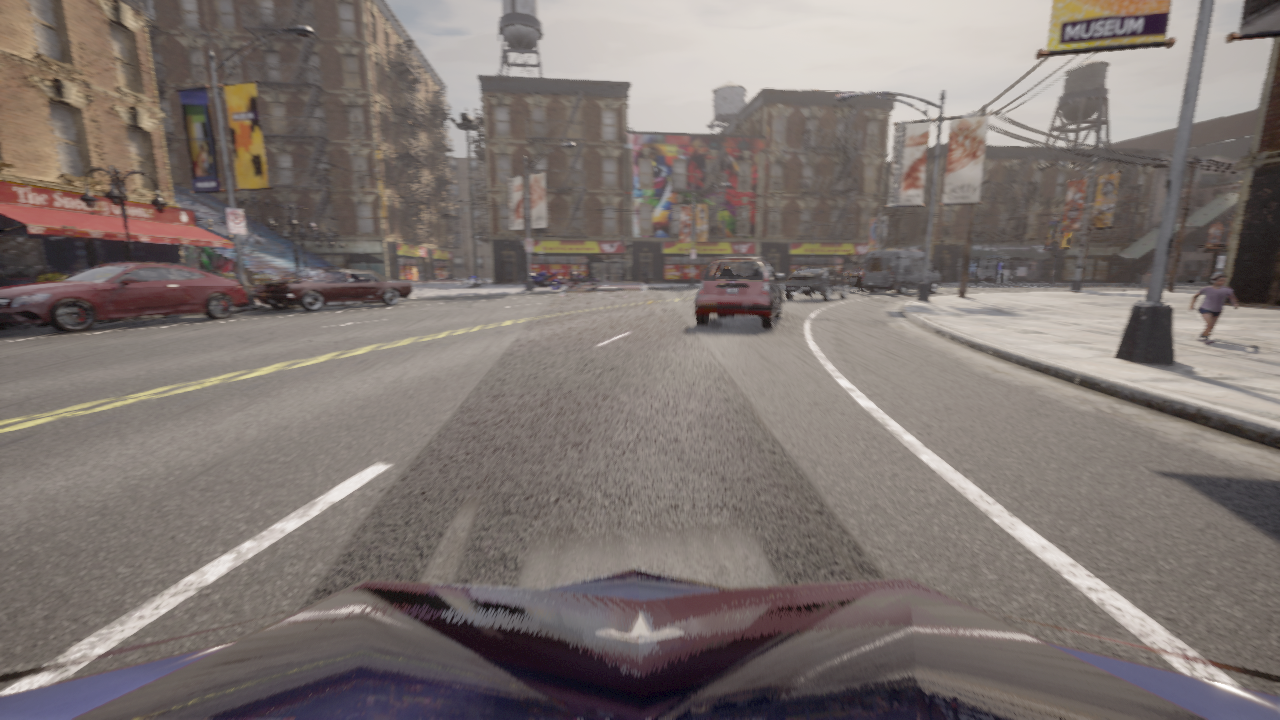cyclist: (0, 569, 1279, 719), (0, 262, 247, 332), (253, 270, 413, 311), (694, 256, 783, 328), (862, 250, 940, 294), (784, 266, 847, 301), (840, 267, 868, 291), (530, 270, 560, 289), (567, 272, 599, 288), (557, 271, 581, 289), (464, 274, 485, 287)
pedestrian: (1189, 274, 1237, 344)
